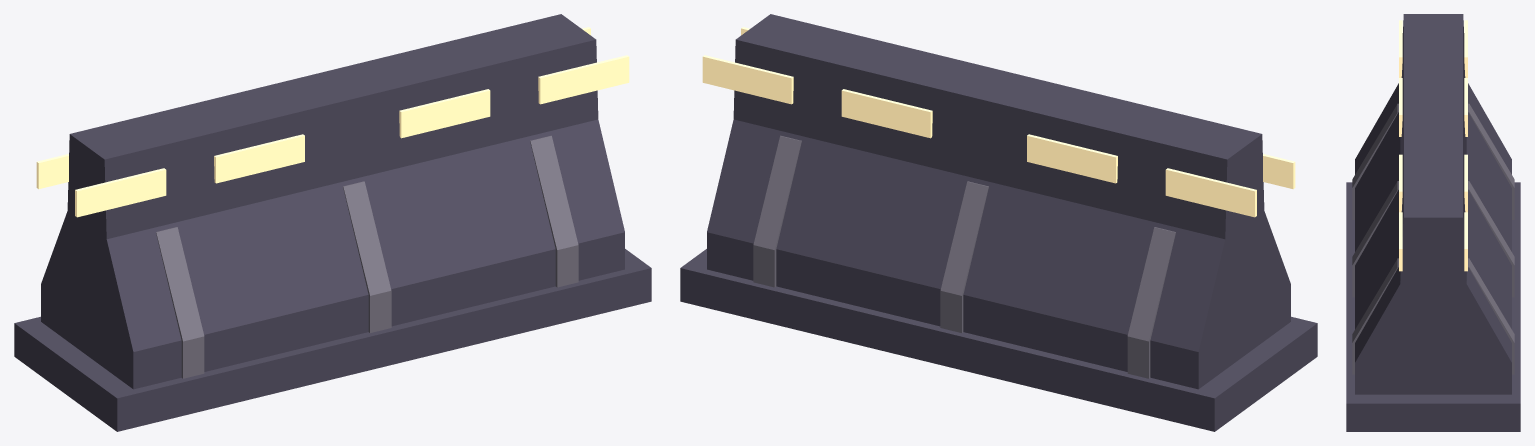
Rendered from UtilityBarricadeIntact.glb.
3 views of the same model, side by side, from view 1: azimuth 30°, elevation 25°; view 2: azimuth 150°, elevation 25°; view 3: azimuth 270°, elevation 25° (orthographic). The views are drawn at different scales.
Visible parts, largest first — view 1: body, stem, base, stripe (×5), rib (×3); view 2: body, stem, base, stripe (×5), rib (×3); view 3: body, stem, base, rib (×3), stripe (×8).
Boxes of the visible parts, x1,y1,x2,y2 form: body: (41, 119, 624, 389); stem: (67, 14, 598, 239); base: (14, 249, 651, 431); stripe (×5): (36, 55, 629, 217); rib (×3): (156, 135, 578, 378); body: (707, 119, 1290, 389); stem: (733, 14, 1264, 239); base: (680, 249, 1317, 431); stripe (×5): (702, 55, 1295, 217); rib (×3): (753, 135, 1175, 378); body: (1355, 83, 1511, 394); stem: (1400, 14, 1466, 283); base: (1346, 182, 1520, 431); rib (×3): (1352, 103, 1514, 374); stripe (×8): (1399, 20, 1467, 271).
Bounding box in the file's own units: 3.1 × 1.3 × 1.
